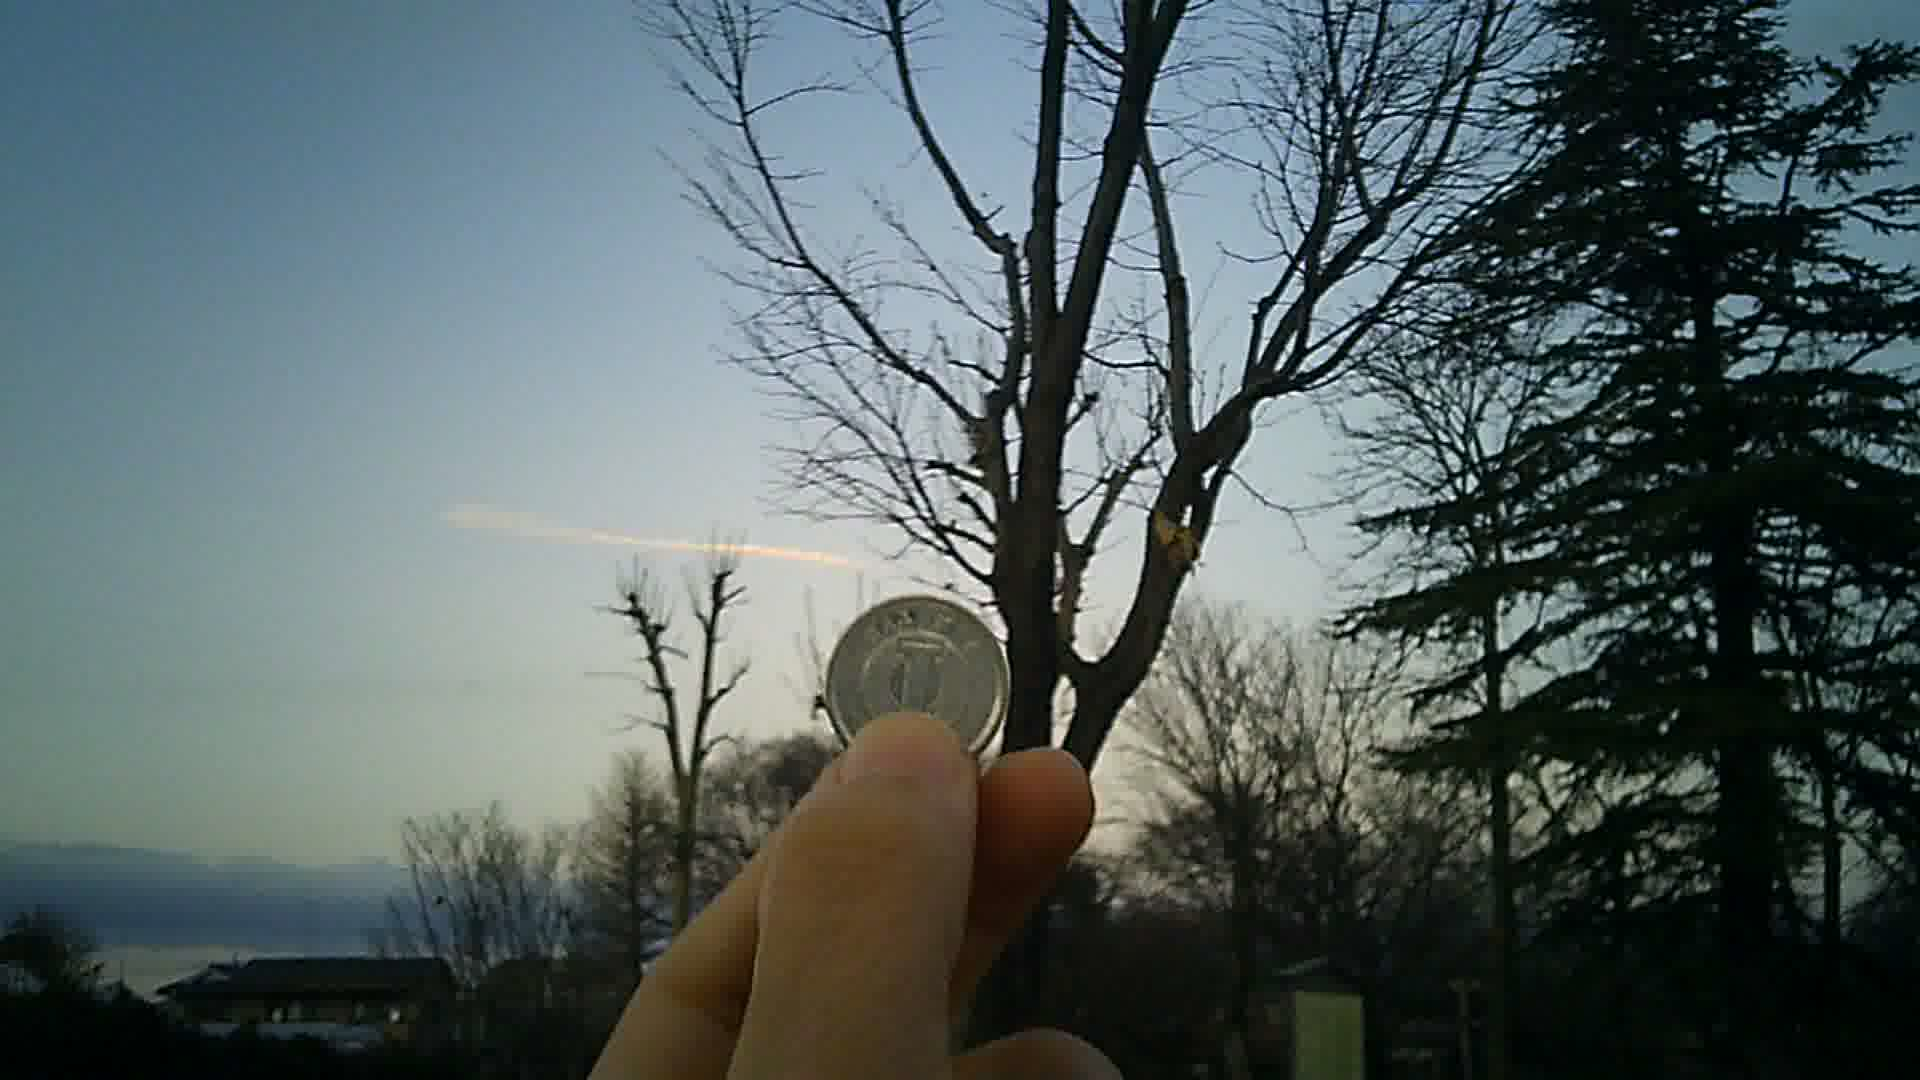1 Yen: (825, 591, 1013, 756)
